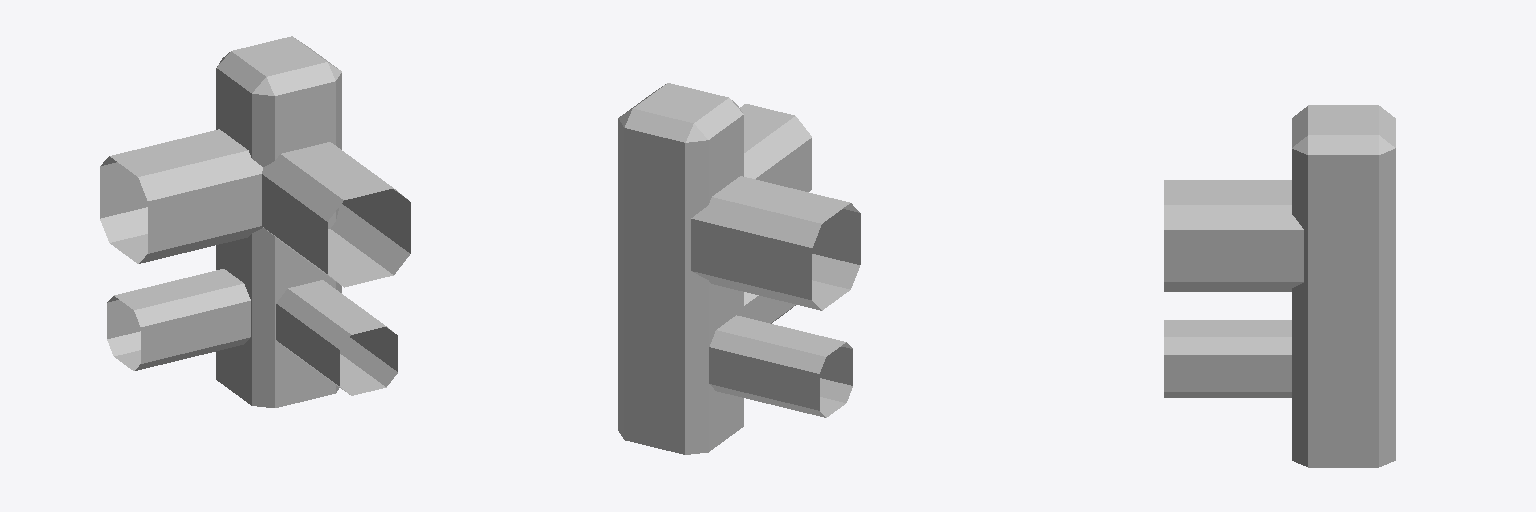
The model's file is Fence_Corner.obj.
3 views of the same model, side by side, from view 1: azimuth 30°, elevation 25°; view 2: azimuth 150°, elevation 25°; view 3: azimuth 270°, elevation 25° (orthographic).
Parts seen in each view (by area): view 1: Fence_Corner_Cube.580; view 2: Fence_Corner_Cube.580; view 3: Fence_Corner_Cube.580.
Part boxes in pixels (x1,y1,x2,y2): Fence_Corner_Cube.580: (100,36,410,407); Fence_Corner_Cube.580: (618,83,860,454); Fence_Corner_Cube.580: (1164,105,1395,467).
Size of the model in its own units: 1.29 by 2 by 1.29.